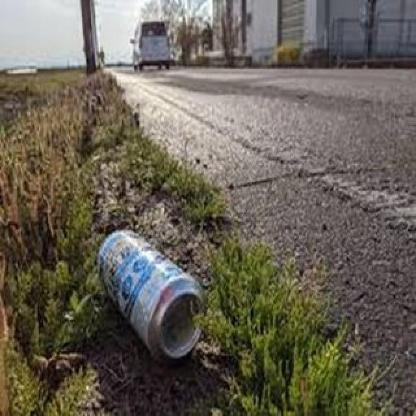Can: (96, 228, 206, 366)
